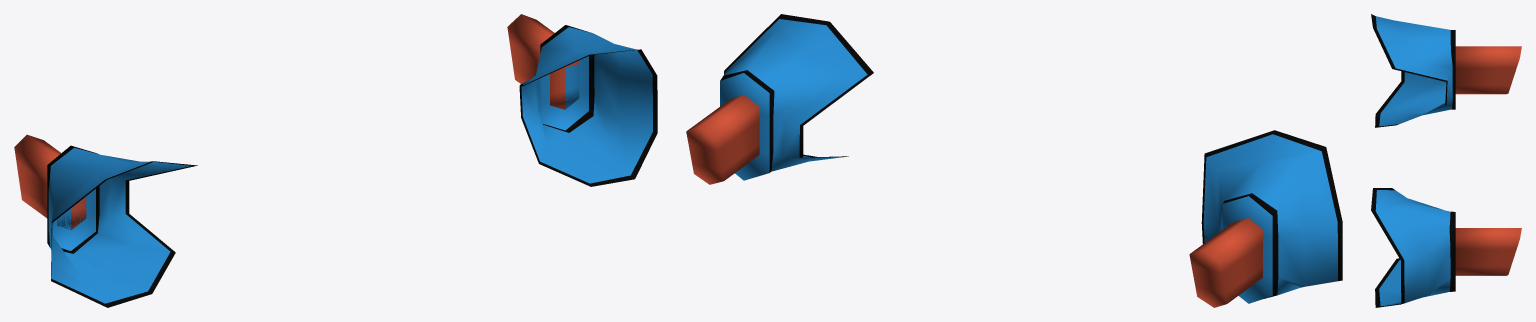
File: PeaShooter_Model.fbx
The picture shows the model from 3 angles, left to right: view 1: azimuth 30°, elevation 25°; view 2: azimuth 150°, elevation 25°; view 3: azimuth 270°, elevation 25°; orthographic projection. The views are drawn at different scales.
Visible parts, largest first — view 1: mainShip01.001; view 2: mainShip01.001; view 3: mainShip01.001.
Part boxes in pixels (x1,y1,x2,y2): mainShip01.001: (14, 14, 657, 307); mainShip01.001: (686, 14, 1342, 307); mainShip01.001: (1371, 14, 1521, 307).
Size of the model in its own units: 65.17 by 14.03 by 18.64.
